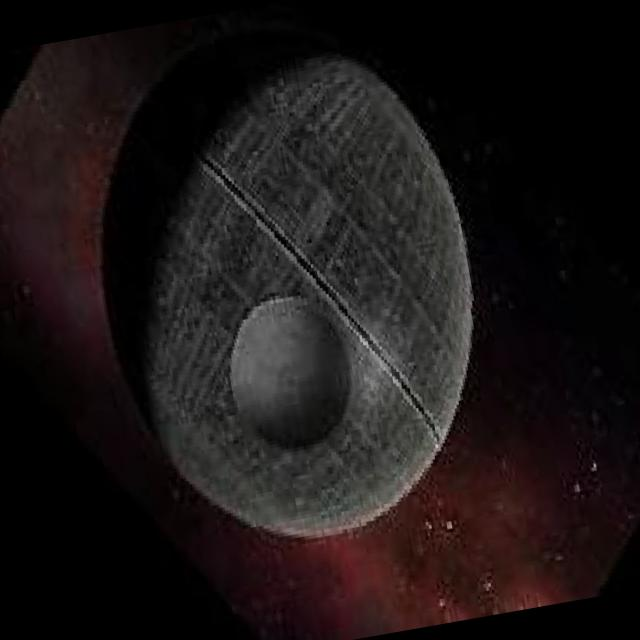Death Star: (76, 15, 517, 568)
